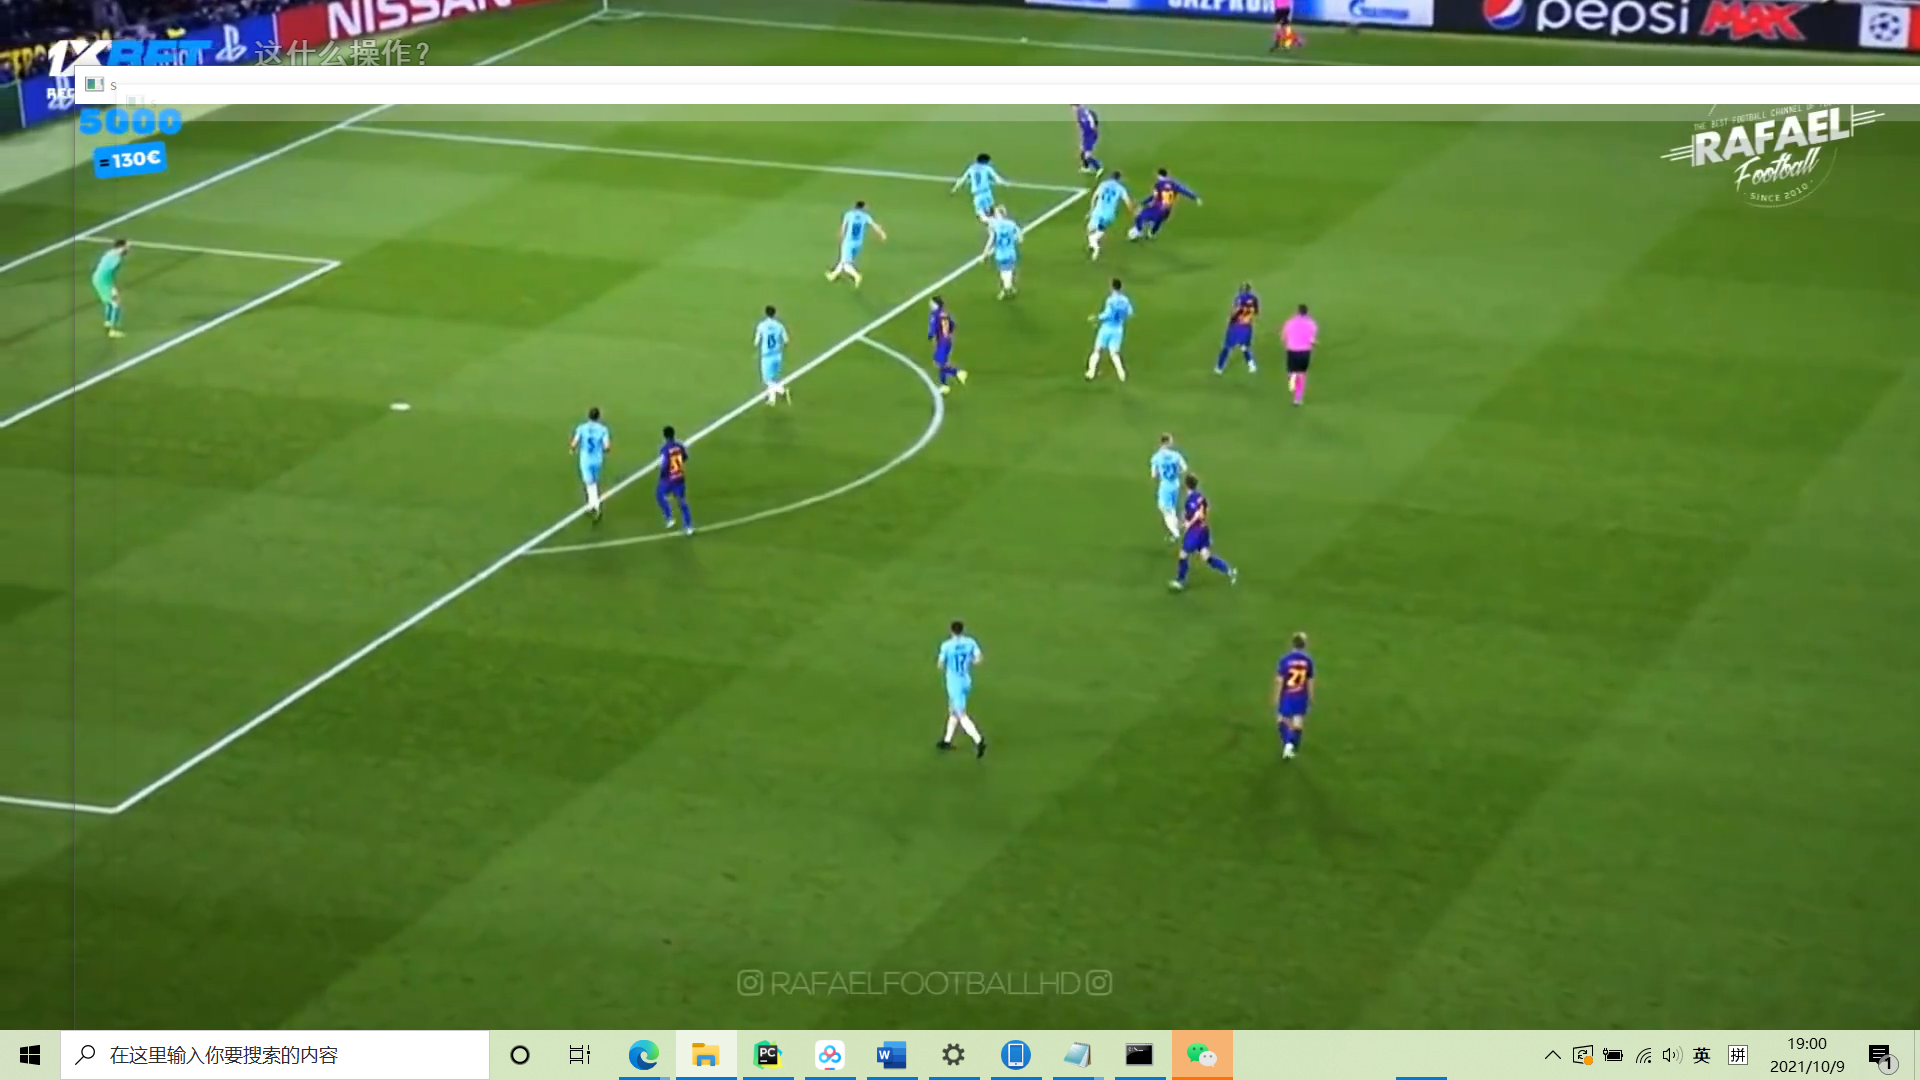ft: (1127, 225, 1142, 243)
